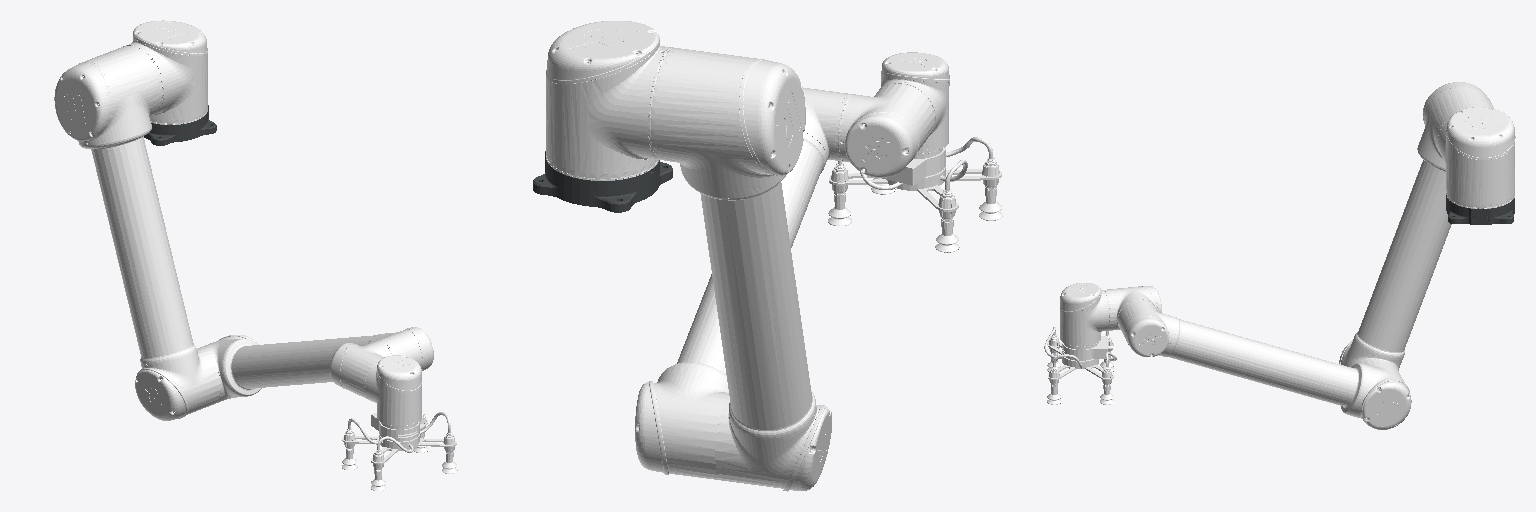
The robot description file, URDF, robot "Trayectory_UR10":
<?xml version="1.0" encoding="utf-8"?>
<!-- This URDF was automatically created by SolidWorks to URDF Exporter! Originally created by [author] ([email redacted]) 
     Commit Version: 1.6.0-4-g7f85cfe  Build Version: 1.6.7995.38578
     For more information, please see http://wiki.ros.org/sw_urdf_exporter -->
<robot
  name="Trayectory_UR10">
  <link
    name="Trayectory_UR10">
    <inertial>
      <origin
        xyz="0.000159353466286277 6.99102964932959E-06 -0.0195645591921084"
        rpy="0 0 0" />
      <mass
        value="0.720450806449451" />
      <inertia
        ixx="0.00116876231249048"
        ixy="-4.89685906370864E-08"
        ixz="-2.03535788248803E-07"
        iyy="0.00117868764546421"
        iyz="8.0330404955096E-08"
        izz="0.00217154959695465" />
    </inertial>
    <visual>
      <origin
        xyz="0 0 0"
        rpy="0 0 0" />
      <geometry>
        <mesh
          filename="package://Trayectory_UR10/meshes/Trayectory_UR10.STL" />
      </geometry>
      <material
        name="">
        <color
          rgba="0.341176470588235 0.356862745098039 0.364705882352941 1" />
      </material>
    </visual>
    <collision>
      <origin
        xyz="0 0 0"
        rpy="0 0 0" />
      <geometry>
        <mesh
          filename="package://Trayectory_UR10/meshes/Trayectory_UR10.STL" />
      </geometry>
    </collision>
  </link>
  <link
    name="Eslabon1_UR10">
    <inertial>
      <origin
        xyz="-0.0113380388289599 -0.00252220626358498 0.0784763086143137"
        rpy="0 0 0" />
      <mass
        value="3.13502087225483" />
      <inertia
        ixx="0.0109675728703293"
        ixy="-0.000164506512879259"
        ixz="0.000854960914170804"
        iyy="0.0116700570398034"
        iyz="0.000189512617483563"
        izz="0.0103221378023363" />
    </inertial>
    <visual>
      <origin
        xyz="0 0 0"
        rpy="0 0 0" />
      <geometry>
        <mesh
          filename="package://Trayectory_UR10/meshes/Eslabon1_UR10.STL" />
      </geometry>
      <material
        name="">
        <color
          rgba="1 1 1 1" />
      </material>
    </visual>
    <collision>
      <origin
        xyz="0 0 0"
        rpy="0 0 0" />
      <geometry>
        <mesh
          filename="package://Trayectory_UR10/meshes/Eslabon1_UR10.STL" />
      </geometry>
    </collision>
  </link>
  <joint
    name="Motor1_UR10"
    type="revolute">
    <origin
      xyz="0 0 0"
      rpy="0 0 0" />
    <parent
      link="Trayectory_UR10" />
    <child
      link="Eslabon1_UR10" />
    <axis
      xyz="0 0 -1" />
    <limit
      lower="0"
      upper="0"
      effort="0"
      velocity="0" />
  </joint>
  <link
    name="Eslabon2_UR10">
    <inertial>
      <origin
        xyz="-0.147600026296208 -0.235925247493093 0.120765885303565"
        rpy="0 0 0" />
      <mass
        value="8.88743518832553" />
      <inertia
        ixx="0.460149260901415"
        ixy="0.0270589069334975"
        ixz="-0.00926604393899269"
        iyy="0.0723372237394219"
        iyz="0.139785305523519"
        izz="0.413816868432994" />
    </inertial>
    <visual>
      <origin
        xyz="0 0 0"
        rpy="0 0 0" />
      <geometry>
        <mesh
          filename="package://Trayectory_UR10/meshes/Eslabon2_UR10.STL" />
      </geometry>
      <material
        name="">
        <color
          rgba="1 1 1 1" />
      </material>
    </visual>
    <collision>
      <origin
        xyz="0 0 0"
        rpy="0 0 0" />
      <geometry>
        <mesh
          filename="package://Trayectory_UR10/meshes/Eslabon2_UR10.STL" />
      </geometry>
    </collision>
  </link>
  <joint
    name="Motor2_UR10"
    type="revolute">
    <origin
      xyz="0 0 0.09"
      rpy="1.5708 0 0" />
    <parent
      link="Eslabon1_UR10" />
    <child
      link="Eslabon2_UR10" />
    <axis
      xyz="0.97605 0 -0.21754" />
    <limit
      lower="0"
      upper="0"
      effort="0"
      velocity="0" />
  </joint>
  <link
    name="Eslabon3_UR10">
    <inertial>
      <origin
        xyz="0.00160310302478604 0.0965503356711631 0.243581121460188"
        rpy="0 0 0" />
      <mass
        value="4.74674118877019" />
      <inertia
        ixx="0.195115620673842"
        ixy="-0.0149105724063042"
        ixz="-0.0358233531890147"
        iyy="0.175597835635568"
        iyz="-0.06706078539499"
        izz="0.0419615963548551" />
    </inertial>
    <visual>
      <origin
        xyz="0 0 0"
        rpy="0 0 0" />
      <geometry>
        <mesh
          filename="package://Trayectory_UR10/meshes/Eslabon3_UR10.STL" />
      </geometry>
      <material
        name="">
        <color
          rgba="1 1 1 1" />
      </material>
    </visual>
    <collision>
      <origin
        xyz="0 0 0"
        rpy="0 0 0" />
      <geometry>
        <mesh
          filename="package://Trayectory_UR10/meshes/Eslabon3_UR10.STL" />
      </geometry>
    </collision>
  </link>
  <joint
    name="Motor3_UR10"
    type="revolute">
    <origin
      xyz="0.04556 -0.57602 0.2044"
      rpy="0 0 0" />
    <parent
      link="Eslabon2_UR10" />
    <child
      link="Eslabon3_UR10" />
    <axis
      xyz="-0.97605 0 0.21754" />
    <limit
      lower="0"
      upper="0"
      effort="0"
      velocity="0" />
  </joint>
  <link
    name="Eslabon4_UR10">
    <inertial>
      <origin
        xyz="-0.156124466931984 -0.00707579486215831 0.0380382370719119"
        rpy="0 0 0" />
      <mass
        value="0.743069959717379" />
      <inertia
        ixx="0.00108377496417189"
        ixy="-1.24768952620168E-08"
        ixz="5.19679271958241E-05"
        iyy="0.00113734238798932"
        iyz="5.75006129700055E-08"
        izz="0.000869188392245203" />
    </inertial>
    <visual>
      <origin
        xyz="0 0 0"
        rpy="0 0 0" />
      <geometry>
        <mesh
          filename="package://Trayectory_UR10/meshes/Eslabon4_UR10.STL" />
      </geometry>
      <material
        name="">
        <color
          rgba="1 1 1 1" />
      </material>
    </visual>
    <collision>
      <origin
        xyz="0 0 0"
        rpy="0 0 0" />
      <geometry>
        <mesh
          filename="package://Trayectory_UR10/meshes/Eslabon4_UR10.STL" />
      </geometry>
    </collision>
  </link>
  <joint
    name="Motor4_UR10"
    type="revolute">
    <origin
      xyz="0.12093 0.221860000000002 0.522489999999999"
      rpy="0 0 0" />
    <parent
      link="Eslabon3_UR10" />
    <child
      link="Eslabon4_UR10" />
    <axis
      xyz="-0.976050770038202 0 0.217542856255573" />
    <limit
      lower="0"
      upper="0"
      effort="0"
      velocity="0" />
  </joint>
  <link
    name="Eslabon5_UR10">
    <inertial>
      <origin
        xyz="0.023516278647076 0.105505915011275 0.00972544773228068"
        rpy="0 0 0" />
      <mass
        value="0.743084158301796" />
      <inertia
        ixx="0.00113330839449443"
        ixy="-1.81987499262508E-05"
        ixz="-2.00717406476807E-05"
        iyy="0.00105557805734508"
        iyz="-9.04262781194478E-05"
        izz="0.000901451686252218" />
    </inertial>
    <visual>
      <origin
        xyz="0 0 0"
        rpy="0 0 0" />
      <geometry>
        <mesh
          filename="package://Trayectory_UR10/meshes/Eslabon5_UR10.STL" />
      </geometry>
      <material
        name="">
        <color
          rgba="1 1 1 1" />
      </material>
    </visual>
    <collision>
      <origin
        xyz="0 0 0"
        rpy="0 0 0" />
      <geometry>
        <mesh
          filename="package://Trayectory_UR10/meshes/Eslabon5_UR10.STL" />
      </geometry>
    </collision>
  </link>
  <joint
    name="Motor5_UR10"
    type="revolute">
    <origin
      xyz="-0.16566 -0.00708 0.03019"
      rpy="1.5708 0 0" />
    <parent
      link="Eslabon4_UR10" />
    <child
      link="Eslabon5_UR10" />
    <axis
      xyz="0.21754 0.97605 -0.00010367" />
    <limit
      lower="0"
      upper="0"
      effort="0"
      velocity="0" />
  </joint>
  <link
    name="Eslabon6_UR10">
    <inertial>
      <origin
        xyz="6.2231E-06 -0.096488 -0.004768"
        rpy="0 0 0" />
      <mass
        value="0.40775" />
      <inertia
        ixx="0.00066225"
        ixy="1.3037E-07"
        ixz="1.6018E-06"
        iyy="0.0011564"
        iyz="2.372E-05"
        izz="0.00087581" />
    </inertial>
    <visual>
      <origin
        xyz="0 0 0"
        rpy="0 0 0" />
      <geometry>
        <mesh
          filename="package://Trayectory_UR10/meshes/Eslabon6_UR10.STL" />
      </geometry>
      <material
        name="">
        <color
          rgba="1 1 1 1" />
      </material>
    </visual>
    <collision>
      <origin
        xyz="0 0 0"
        rpy="0 0 0" />
      <geometry>
        <mesh
          filename="package://Trayectory_UR10/meshes/Eslabon6_UR10.STL" />
      </geometry>
    </collision>
  </link>
  <joint
    name="Motor6_UR10"
    type="revolute">
    <origin
      xyz="0.02517 0.11293 -1E-05"
      rpy="-1.5708 0 0" />
    <parent
      link="Eslabon5_UR10" />
    <child
      link="Eslabon6_UR10" />
    <axis
      xyz="2.6139E-05 -1 0.00010039" />
    <limit
      lower="0"
      upper="0"
      effort="0"
      velocity="0" />
  </joint>
</robot>

--- What the picture shows (computed from the rendered views, not written in the file) ---
Views: 3 orthographic renders of the robot side by side, from view 1: azimuth 30°, elevation 25°; view 2: azimuth 150°, elevation 25°; view 3: azimuth 270°, elevation 25°.
Robot: Trayectory_UR10 — 7 links, 6 joints (6 revolute); root link Trayectory_UR10; default pose: every joint at zero.
Visible links, largest first — view 1: Eslabon2_UR10, Eslabon3_UR10, Eslabon1_UR10, Eslabon5_UR10, Eslabon6_UR10, Eslabon4_UR10, Trayectory_UR10; view 2: Eslabon2_UR10, Eslabon1_UR10, Eslabon3_UR10, Eslabon4_UR10, Eslabon6_UR10, Trayectory_UR10, Eslabon5_UR10; view 3: Eslabon3_UR10, Eslabon2_UR10, Eslabon1_UR10, Eslabon5_UR10, Eslabon6_UR10, Trayectory_UR10, Eslabon4_UR10.
Boxes of the visible links, box(x1,y1,x2,y2) form: Eslabon2_UR10: box(54, 45, 220, 420); Eslabon3_UR10: box(197, 327, 433, 404); Eslabon1_UR10: box(129, 20, 207, 124); Eslabon5_UR10: box(365, 355, 421, 426); Eslabon6_UR10: box(342, 411, 457, 490); Eslabon4_UR10: box(330, 342, 391, 399); Trayectory_UR10: box(144, 105, 216, 145); Eslabon2_UR10: box(648, 47, 831, 491); Eslabon1_UR10: box(546, 21, 670, 180); Eslabon3_UR10: box(635, 87, 852, 480); Eslabon4_UR10: box(840, 83, 934, 177); Eslabon6_UR10: box(828, 137, 1002, 252); Trayectory_UR10: box(533, 151, 672, 212); Eslabon5_UR10: box(879, 52, 949, 154); Eslabon3_UR10: box(1118, 299, 1411, 429); Eslabon2_UR10: box(1339, 82, 1493, 370); Eslabon1_UR10: box(1439, 107, 1515, 208); Eslabon5_UR10: box(1060, 283, 1109, 346); Eslabon6_UR10: box(1044, 327, 1116, 404); Trayectory_UR10: box(1446, 195, 1514, 224); Eslabon4_UR10: box(1104, 286, 1161, 330).
Size in the robot's own frame: 0.4344 by 1.02 by 0.724 metres.
7 mesh visuals loaded from 7 distinct referenced files (7 binary STL).
